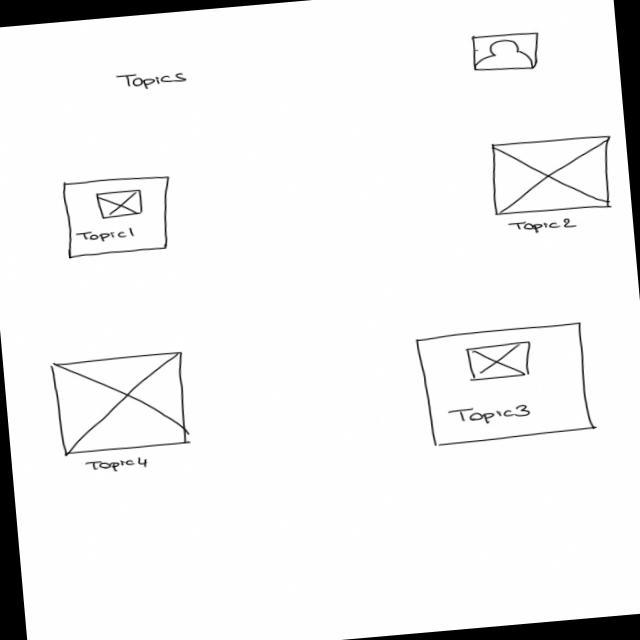container: (414, 321, 598, 448), (60, 173, 176, 260)
image: (51, 351, 192, 458), (488, 134, 616, 219), (468, 29, 544, 77), (465, 340, 537, 383), (95, 187, 146, 220)
label: (447, 401, 534, 430), (114, 67, 192, 93), (507, 215, 582, 239), (85, 456, 151, 476), (76, 227, 139, 246)
